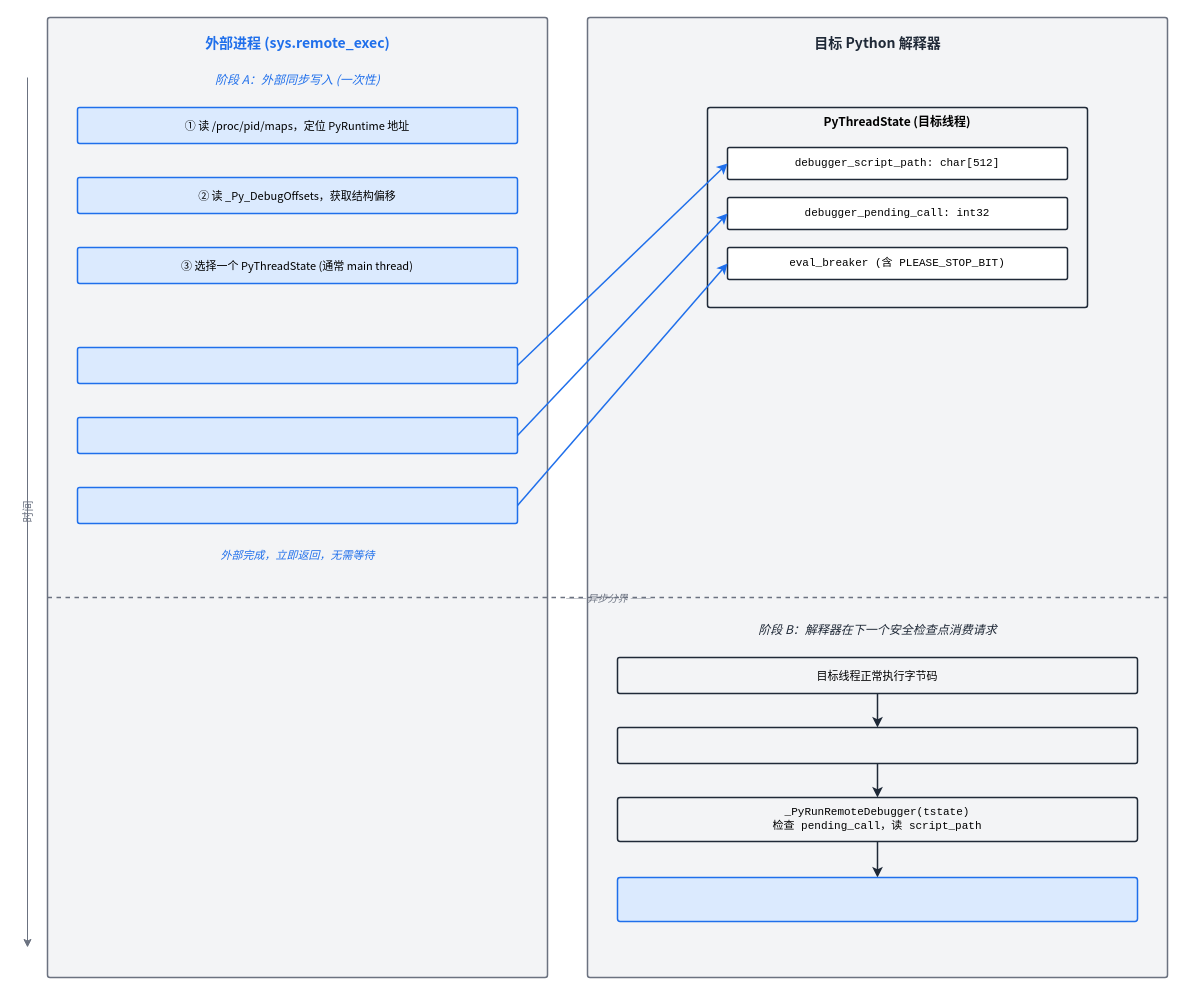
The diagram is 1186 pixels wide and 996 high, and some of its shapes have lost their labels. Each missing label, with the centre of its shape:
"eval loop 检查 eval_breaker -> 发现 PLEASE_STOP_BIT" goes at [877,745].
"fopen(script_path) + PyRun_AnyFile" goes at [877,899].
"④ 写脚本路径" goes at [297,365].
"⑤ 写 pending_call = 1" goes at [297,435].
"⑥ 写 eval_breaker |= PLEASE_STOP_BIT" goes at [297,505].
